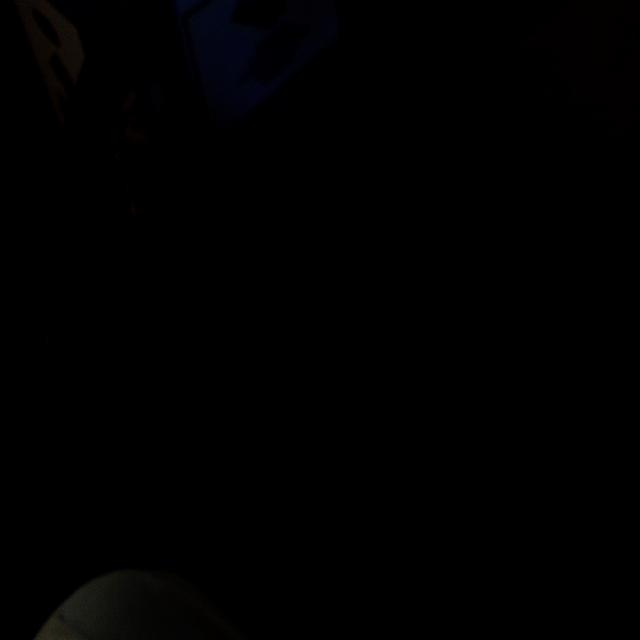Dog: (5, 105, 296, 574), (326, 174, 594, 621)
